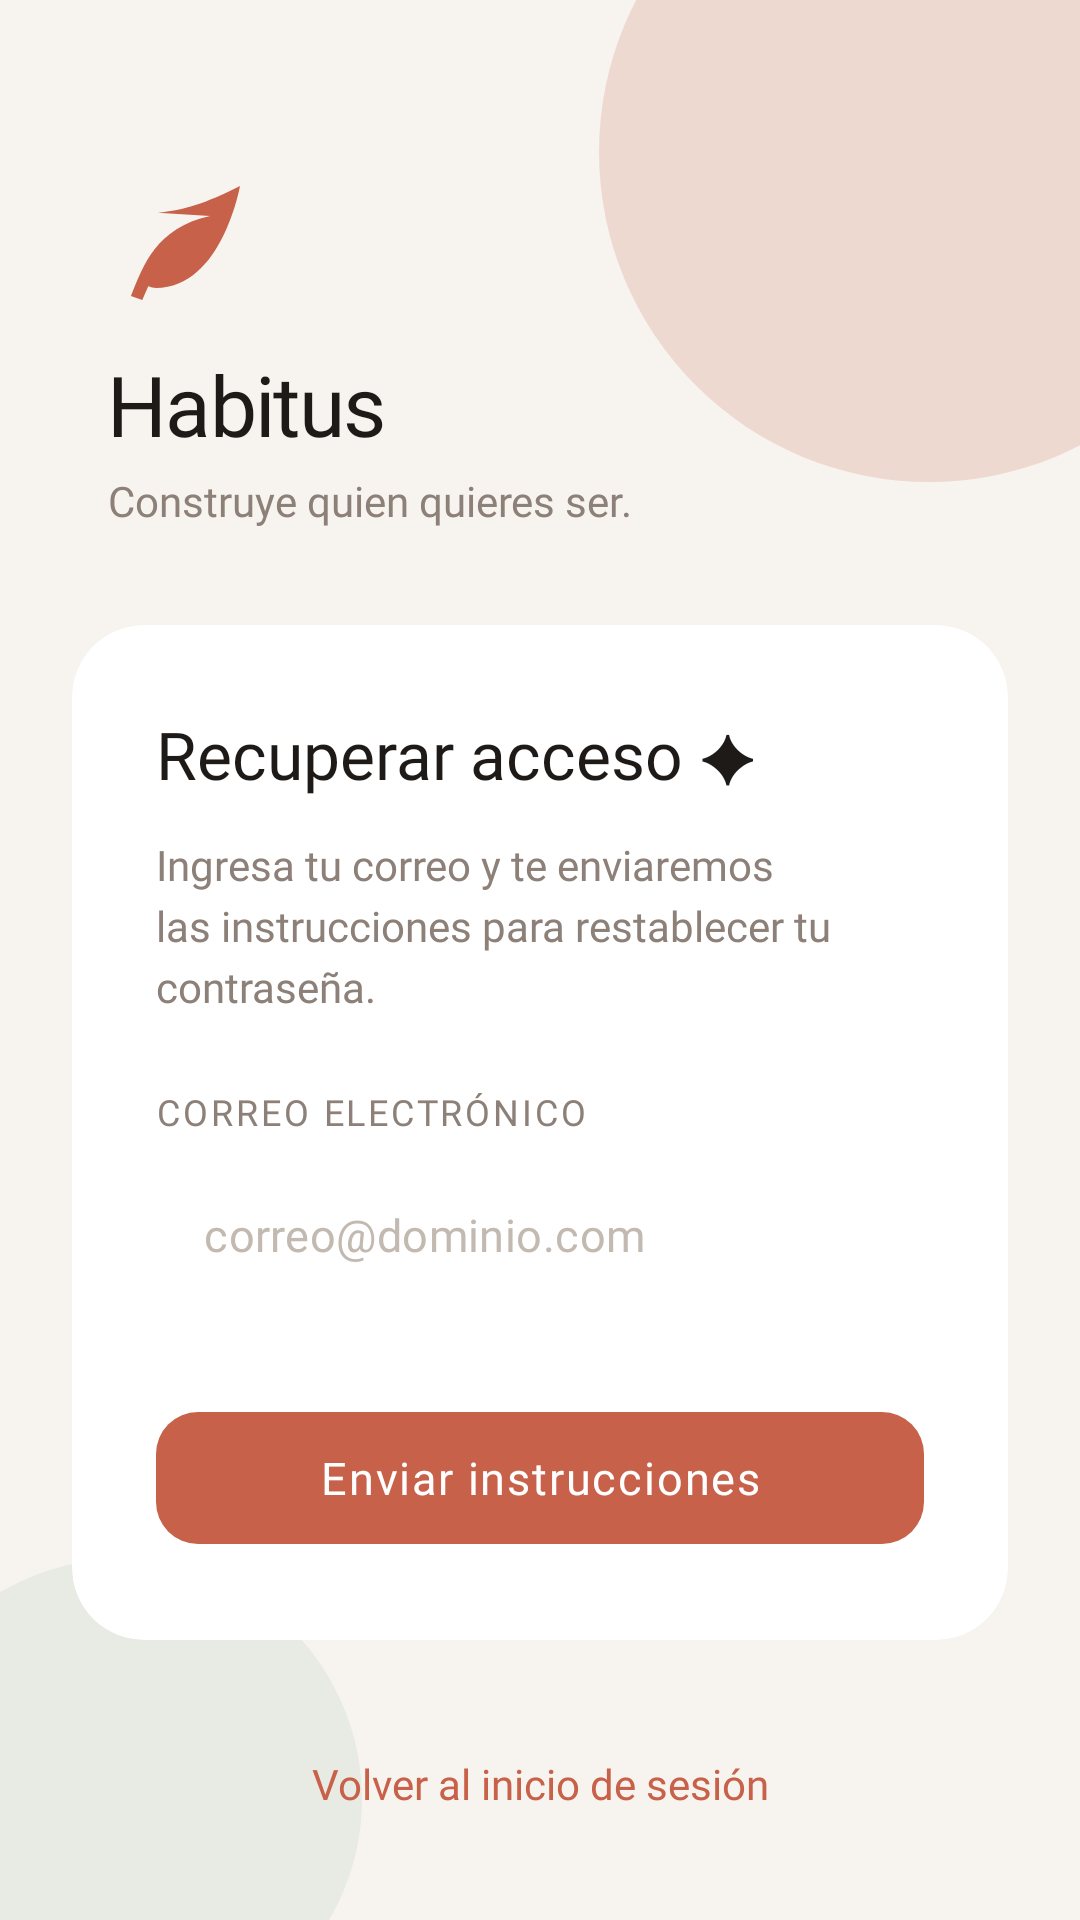

Point at icon controls on the screen. Image size 1080px×1920px, points as point (x, y).
leaf: point (185, 243)
